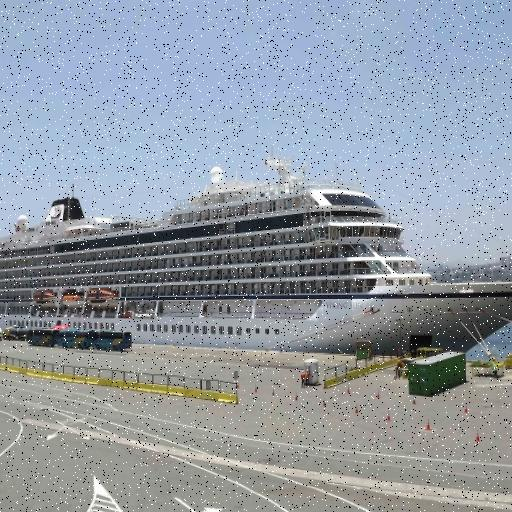cruises: (1, 173, 512, 366)
